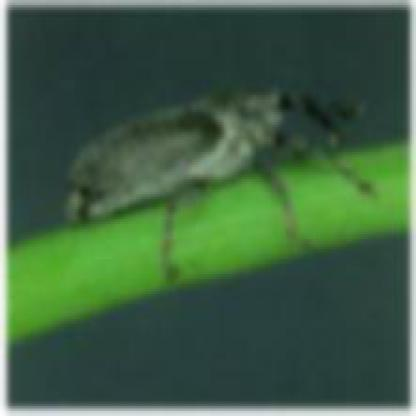ash weevil: (67, 90, 359, 276)
